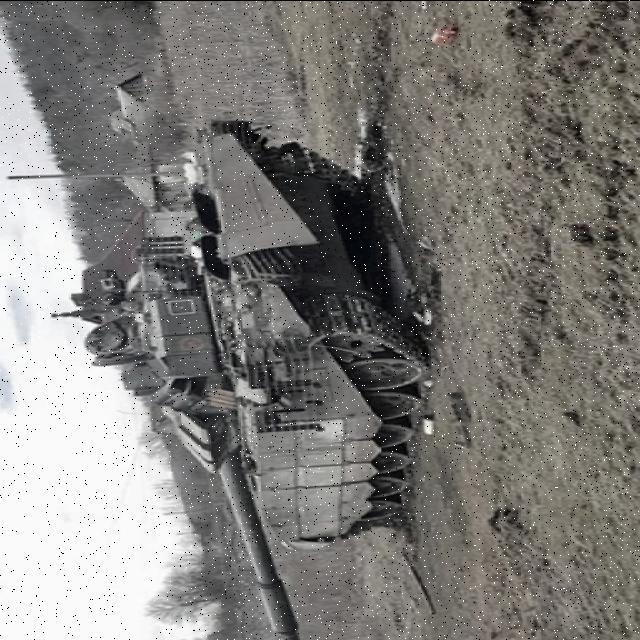TANK: (47, 119, 433, 640)
